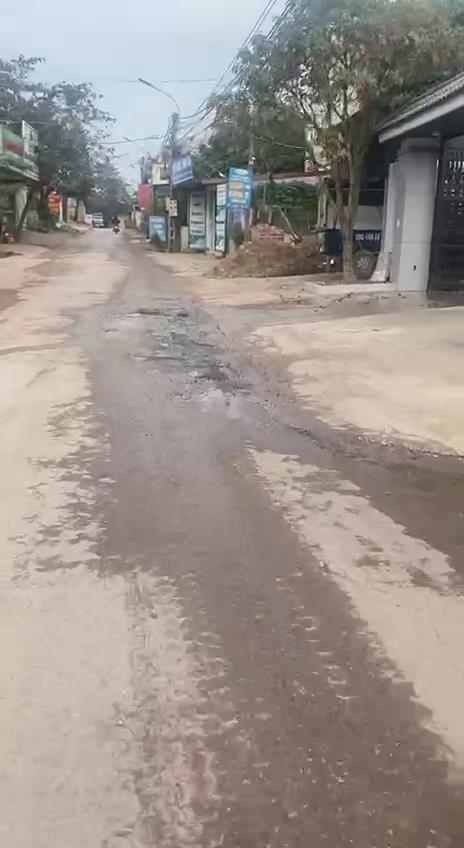pothole: (178, 351, 248, 406)
